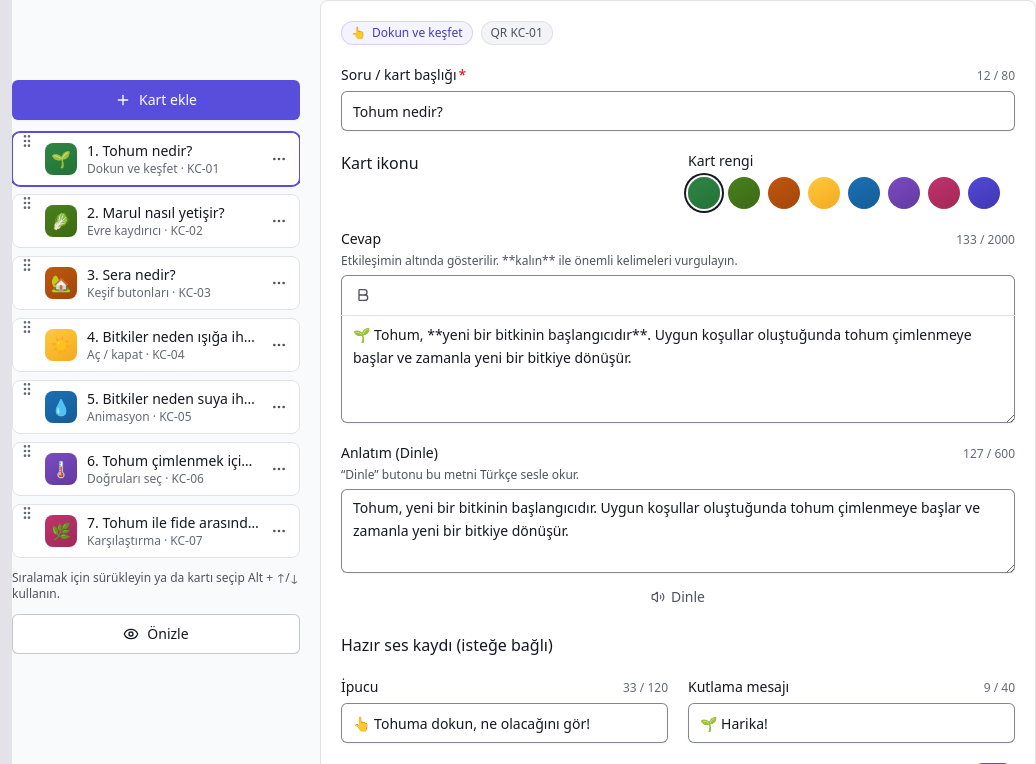
it: CardsTab › opens a card from the list
Click the button "🥬 2. Marul nasıl yetişir? Evre kaydırıcı · KC-02" at (152, 221), box [45,195,259,247]
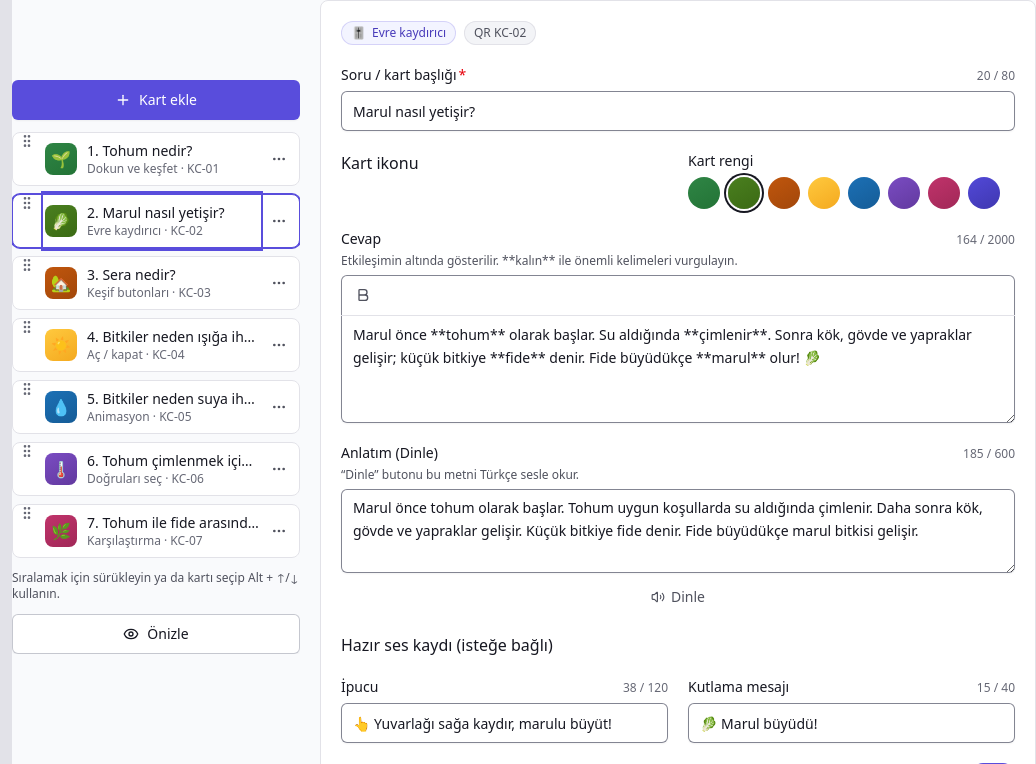
Result: the field labelled "Soru / kart başlığı" holds "Marul nasıl yetişir?" at [341,91,1015,131]
